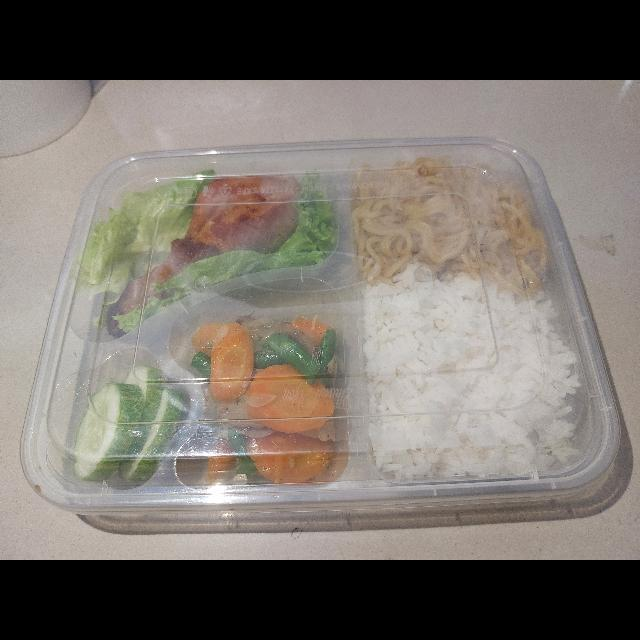bento: (22, 136, 621, 516)
